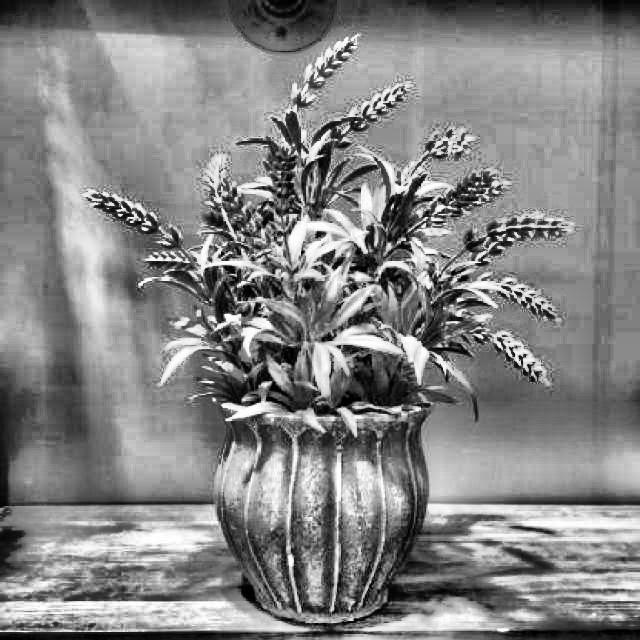plants: (182, 114, 456, 626)
